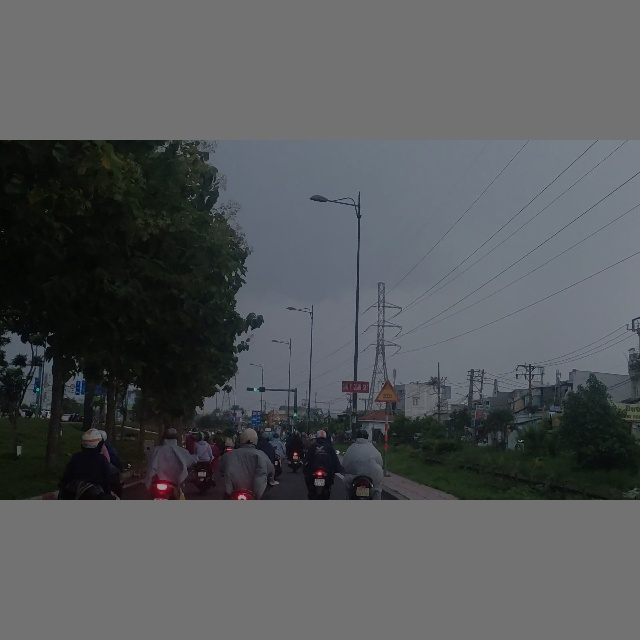W.210: (375, 380, 400, 402)
